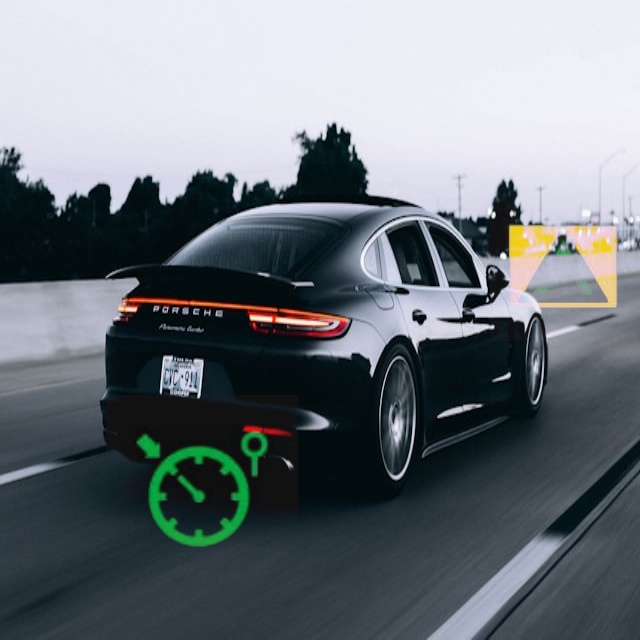symbol: (106, 395, 298, 587), (490, 194, 637, 341)
